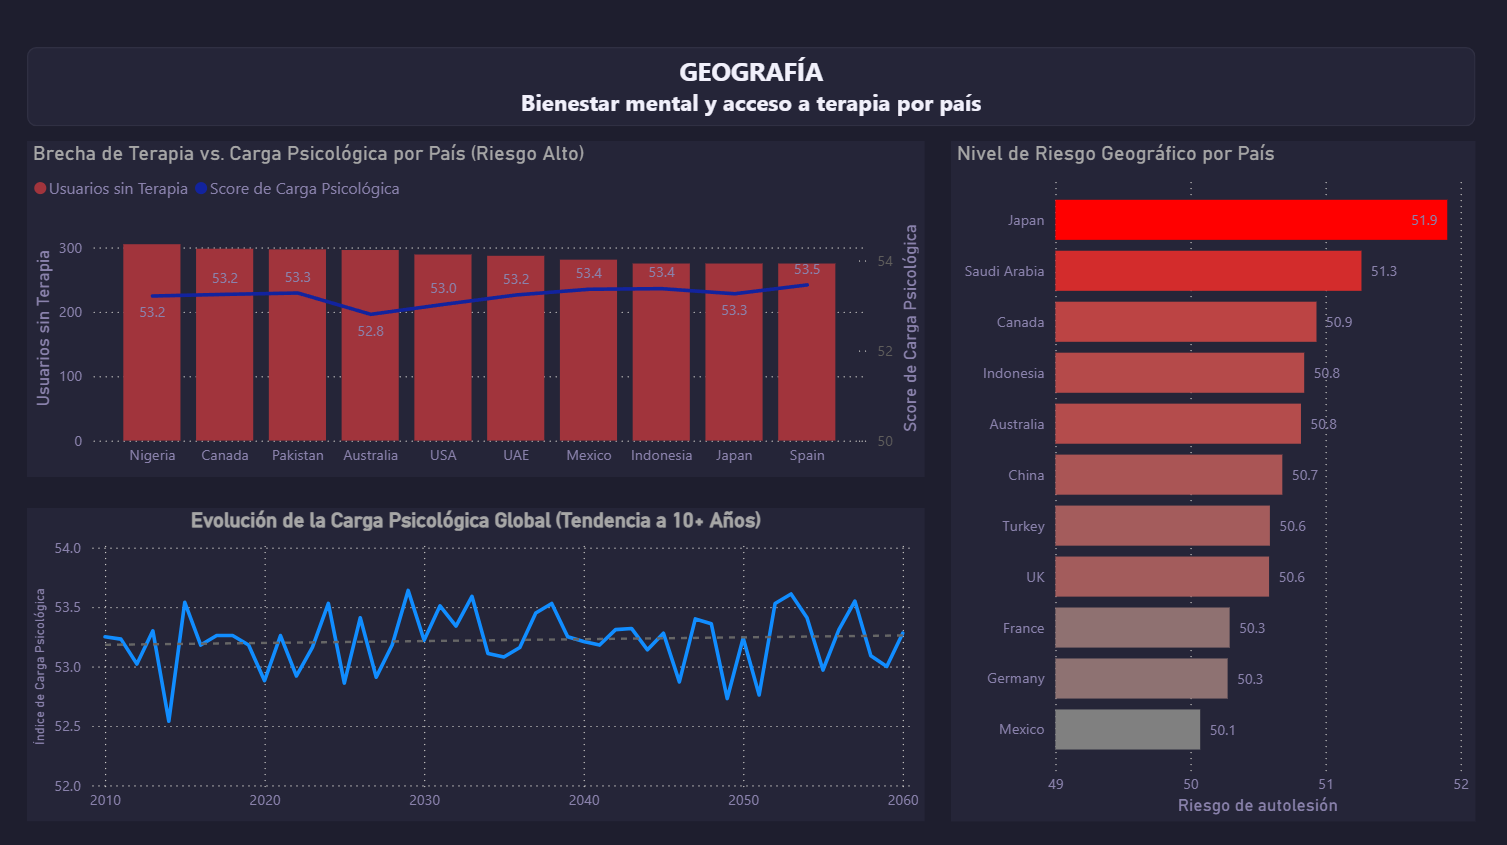

This screenshot's page, from the dashboard's own definition file:
{"tool":"powerbi","page":{"name":"P3","canvas":[1280,720],"ordinal":2},"visuals":[{"type":"shape","box":[33,46,1207,66],"z":0},{"type":"textbox","box":[33,46,1207,66],"z":1000},{"type":"lineClusteredColumnComboChart","title":"Brecha de Terapia vs. Carga Psicológica por País (Riesgo Alto)","fields":{"Category":["ANALISIS11.country"],"Y":["Sum(ANALISIS11.treatment_gap)"],"Y2":["Avg(ANALISIS11.psychological_burden_index)"]},"box":[33.3,124.4,747.8,280],"z":5000},{"type":"lineChart","title":"Evolución de la Carga Psicológica Global (Tendencia a 10+ Años)","fields":{"Category":["ANALISIS15.year"],"Y":["Sum(ANALISIS15.psychological_burden_index)"]},"box":[33.3,430,747.8,261.1],"z":6000},{"type":"clusteredBarChart","title":"Nivel de Riesgo Geográfico por País","fields":{"Category":["ANALISIS07.country"],"Y":["Avg(ANALISIS07.avg_self_harm_risk)"]},"box":[803.3,124.2,436.7,566.7],"z":7000}]}

Visuals, with their boxes in screenshot pixels (x1, y1, x2, y2), scaled from the page's 1280x720 canvas onto the 1507x845 screenshot:
shape: <region>39, 54, 1460, 131</region>
textbox: <region>39, 54, 1460, 131</region>
"Brecha de Terapia vs. Carga Psicológica por País (Riesgo Alto)" lineClusteredColumnComboChart: <region>39, 146, 920, 475</region>
"Evolución de la Carga Psicológica Global (Tendencia a 10+ Años)" lineChart: <region>39, 505, 920, 811</region>
"Nivel de Riesgo Geográfico por País" clusteredBarChart: <region>946, 146, 1460, 811</region>
